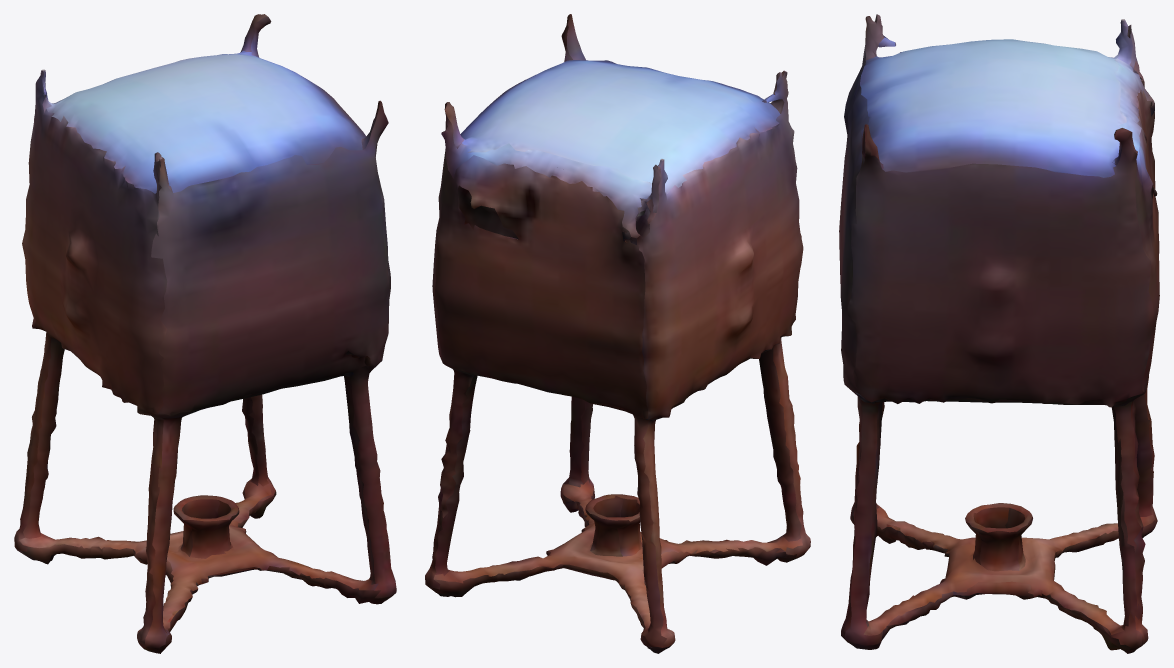
3 renders of one model, left to right at view 1: azimuth 30°, elevation 25°; view 2: azimuth 150°, elevation 25°; view 3: azimuth 270°, elevation 25°, orthographic. The views are drawn at different scales.
Visible parts, largest first — view 1: world; view 2: world; view 3: world.
Part boxes in pixels (<box>): world: <box>14,14,396,653</box>; world: <box>425,14,810,653</box>; world: <box>839,14,1159,653</box>.
Size of the model in its own units: 0.1692 by 0.2933 by 0.1612.
Materials: 1 (1 with a texture image).
